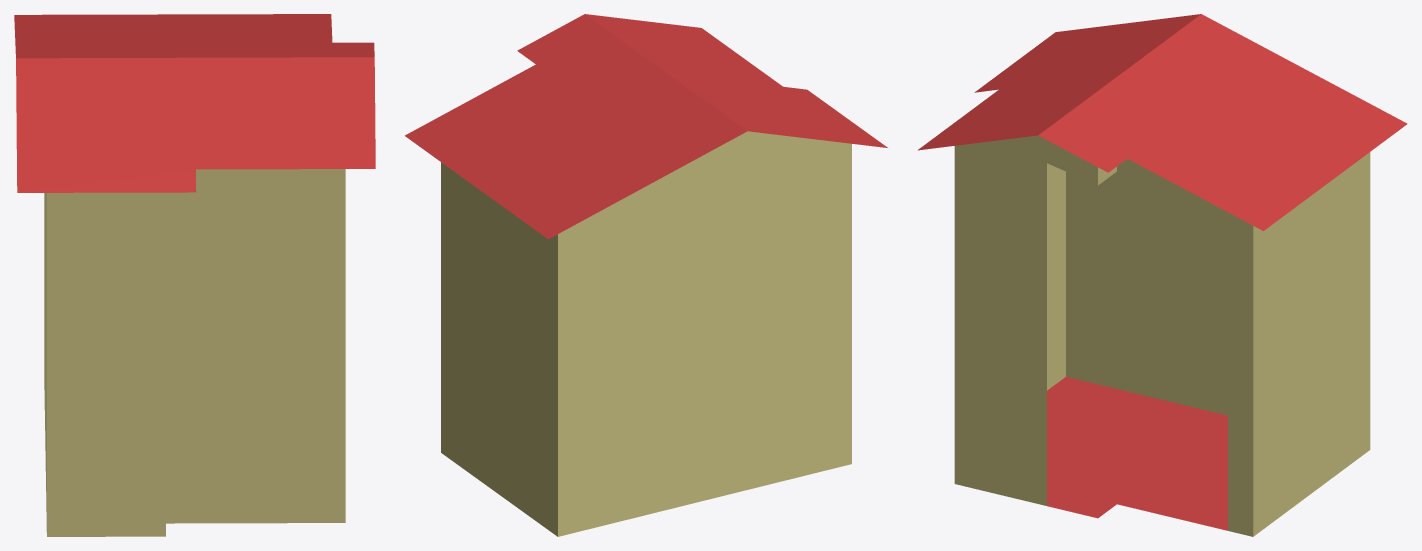
The picture shows the model from 3 angles, left to right: view 1: azimuth 30°, elevation 25°; view 2: azimuth 150°, elevation 25°; view 3: azimuth 270°, elevation 25°; orthographic projection. The views are drawn at different scales.
Visible parts, largest first — view 1: group_5, group_3, group_4; view 2: group_5, group_3, group_4; view 3: group_5, group_3, group_6, group_4.
Part boxes in pixels (<box>): group_5: <box>44,169,345,536</box>; group_3: <box>14,14,375,192</box>; group_4: <box>16,42,375,187</box>; group_5: <box>441,131,851,536</box>; group_3: <box>405,14,887,239</box>; group_4: <box>517,14,846,150</box>; group_5: <box>954,135,1370,536</box>; group_3: <box>917,14,1407,230</box>; group_6: <box>1047,377,1227,530</box>; group_4: <box>1000,14,1243,172</box>.
Size of the model in its own units: 12.38 by 13.37 by 11.48.
